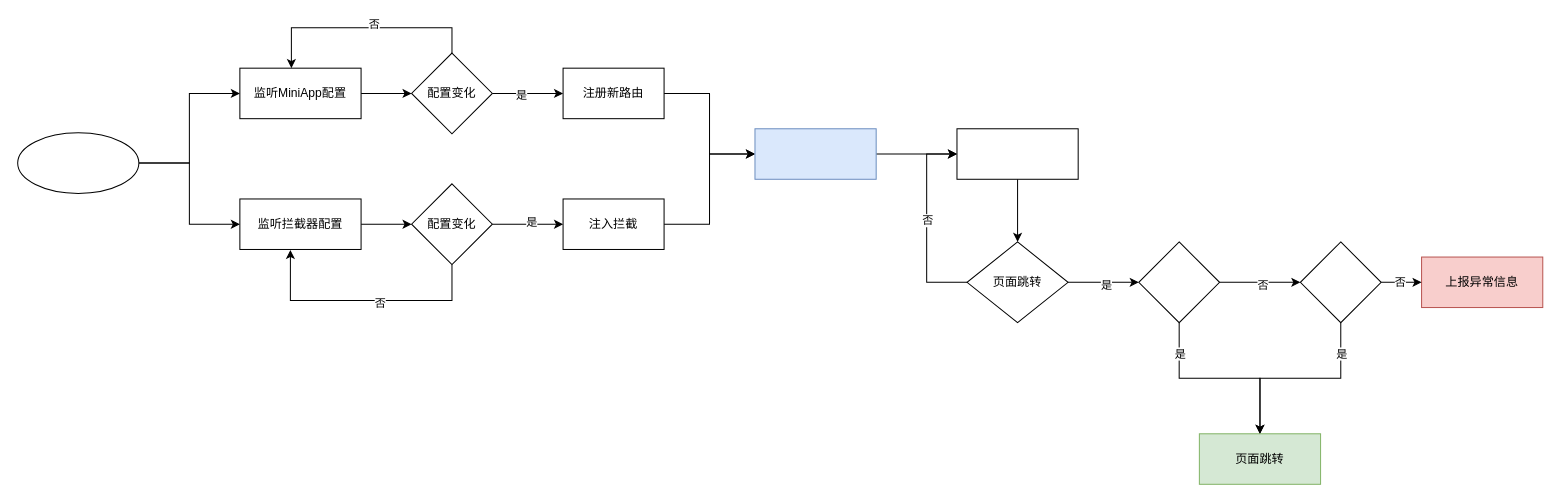
This 1560x502 diagram has some shape labels left out. The shapes that lost their labels are listed below. From the top down, each one's centre as x and y in pixels, then its label:
pixel 78 162: App 启动
pixel 815 153: DESRouter
pixel 1017 153: 监听用户事件
pixel 1179 282: 拦截
pixel 1340 282: 匹配页面
